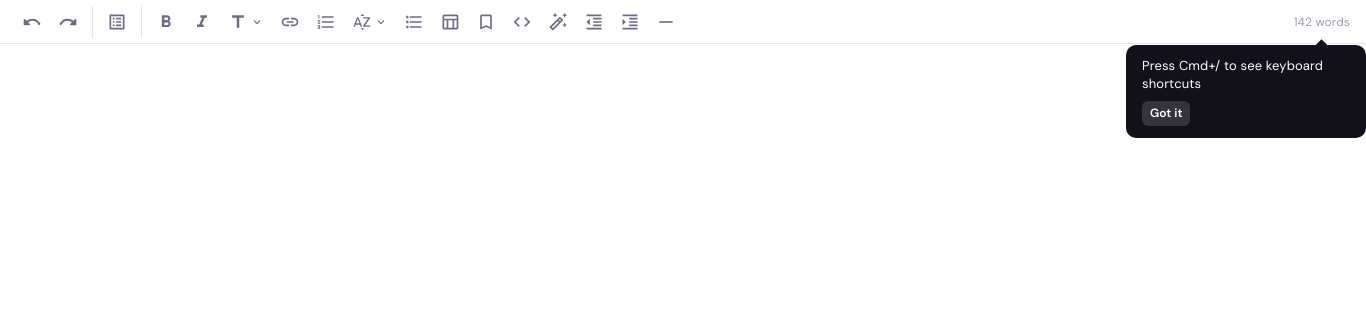
Test: EditorToolbar › Heading dropdown menu › heading dropdown menu closes when pressing Escape
The width and height of the screenshot is (1366, 336).
Click the button named "Heading".
click(246, 22)  # box x1=222 y1=6 x2=270 y2=38
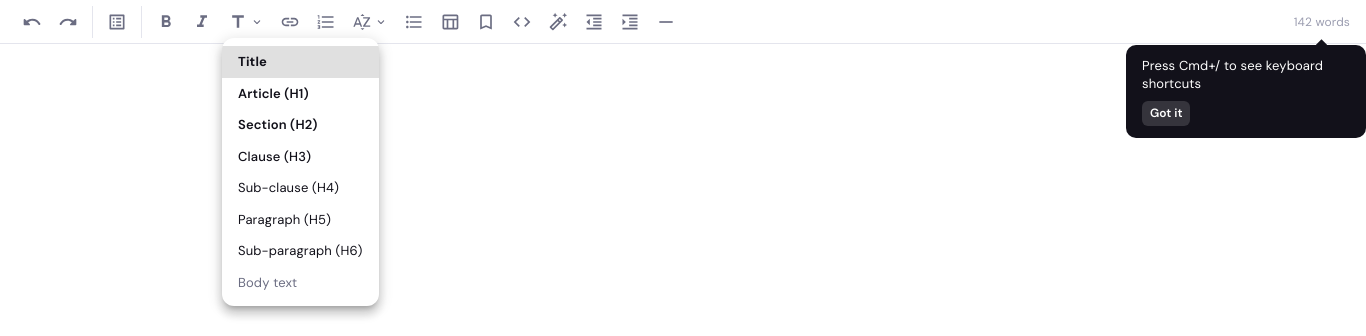
Now the menu is shown, box x1=222 y1=38 x2=378 y2=306
# Press Escape to close
Press Escape
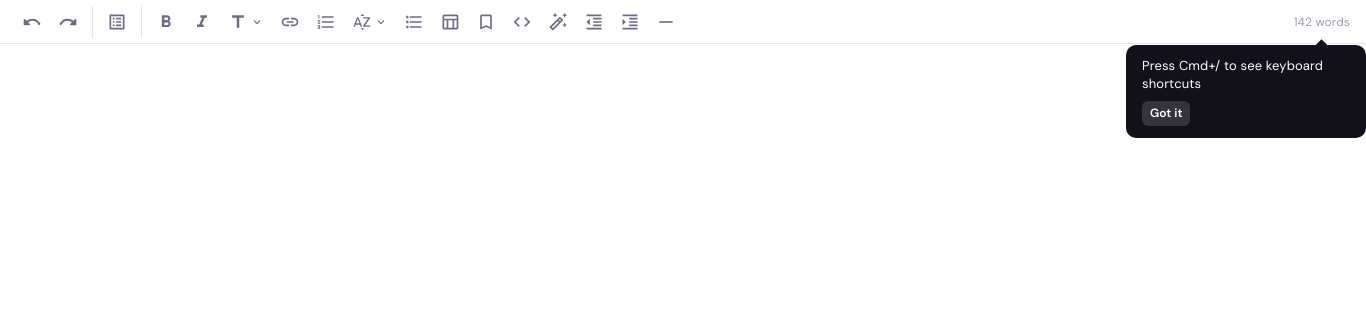
Now the menu is gone
